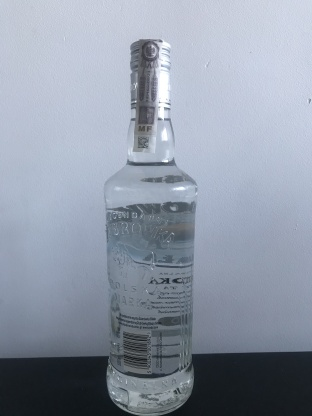nakretka: (127, 34, 173, 112)
